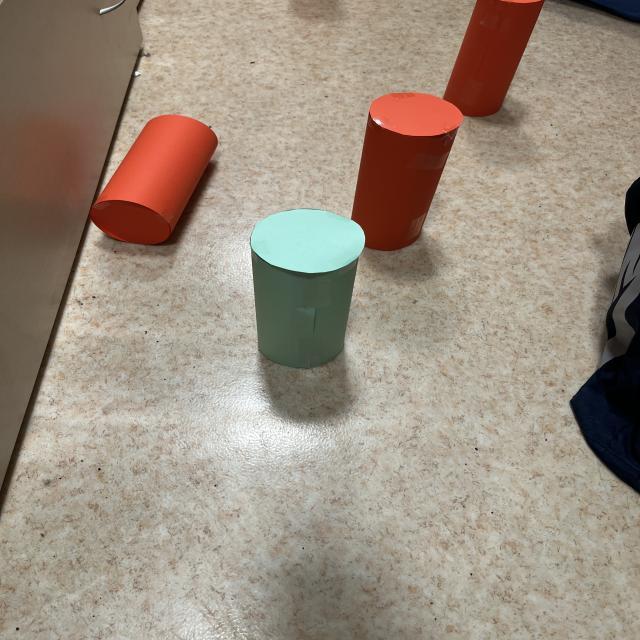meta: (251, 209, 365, 369)
przeszkoda: (351, 93, 463, 250), (90, 115, 217, 244), (443, 0, 544, 117)
